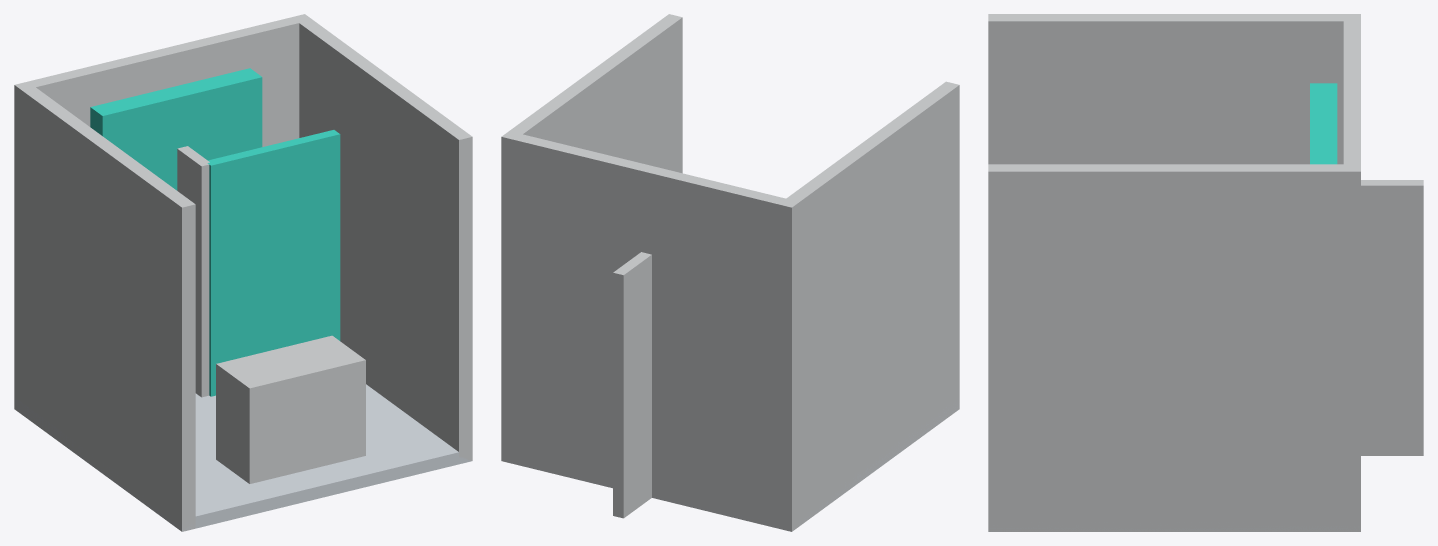
3 renders of one model, left to right at view 1: azimuth 30°, elevation 25°; view 2: azimuth 150°, elevation 25°; view 3: azimuth 270°, elevation 25°, orthographic. The views are drawn at different scales.
Parts seen in each view (by area): view 1: Exhibition Booth Concept; view 2: Exhibition Booth Concept; view 3: Exhibition Booth Concept.
Part boxes in pixels (<box>): Exhibition Booth Concept: <box>14,14,472,531</box>; Exhibition Booth Concept: <box>501,14,959,531</box>; Exhibition Booth Concept: <box>988,14,1423,531</box>.
Bounding box in the file's own units: 3 × 3.2 × 3.51.
